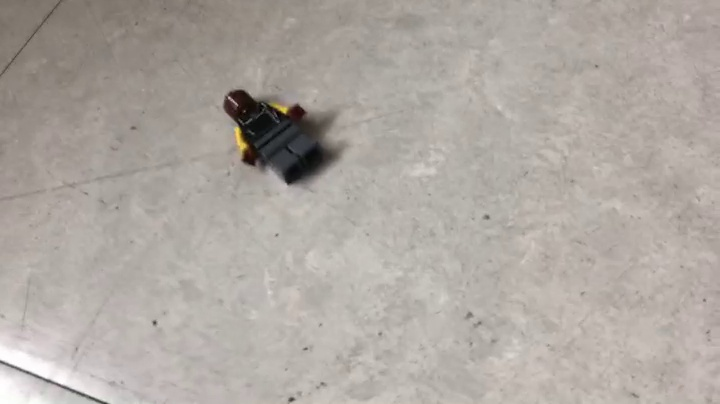people: (223, 87, 328, 185)
